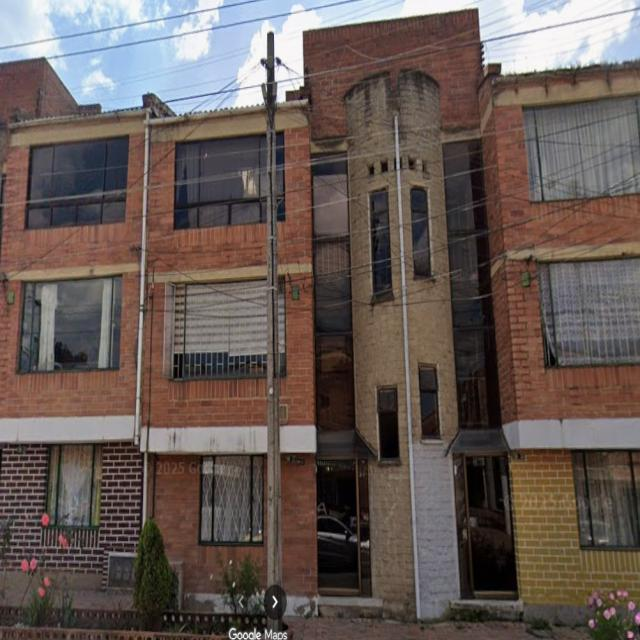Fachada: (0, 9, 639, 620)
Poste: (263, 32, 282, 631)
